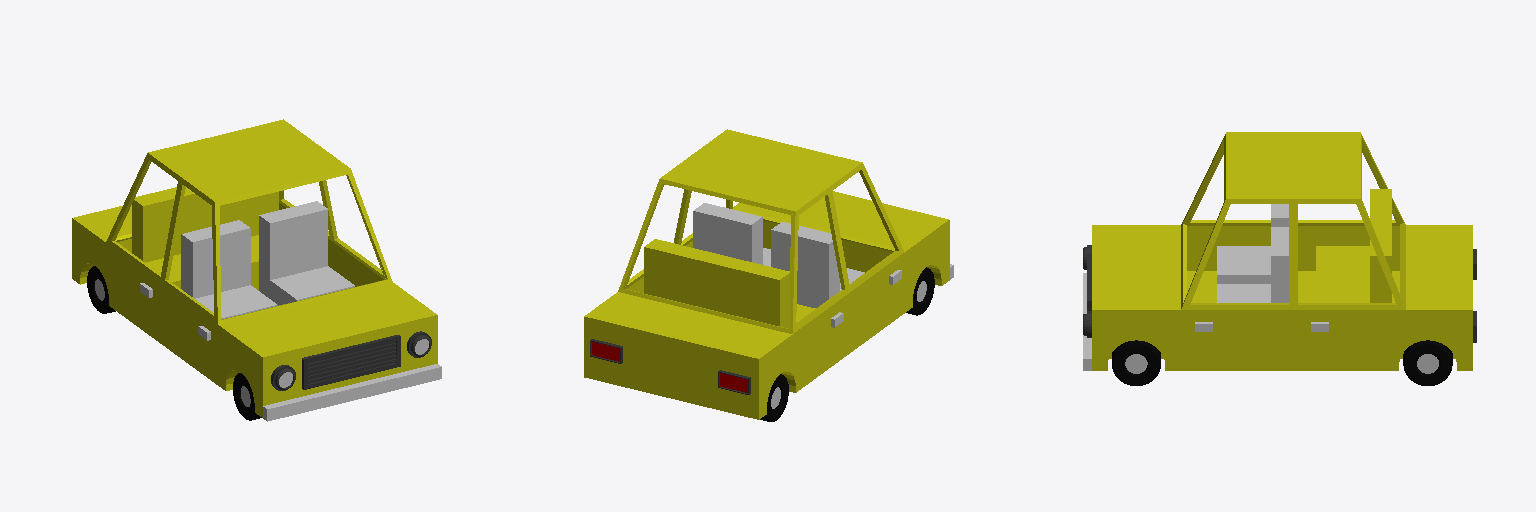
The model's file is car2.obj.
The picture shows the model from 3 angles: view 1: azimuth 30°, elevation 25°; view 2: azimuth 150°, elevation 25°; view 3: azimuth 270°, elevation 25°; orthographic projection.
Visible parts, largest first — view 1: car2; view 2: car2; view 3: car2.
Part boxes in pixels (bbox=[...]): car2: bbox=[72, 119, 441, 421]; car2: bbox=[584, 129, 953, 421]; car2: bbox=[1083, 132, 1476, 385].
Bounding box in the file's own units: 47 × 44.5 × 88.